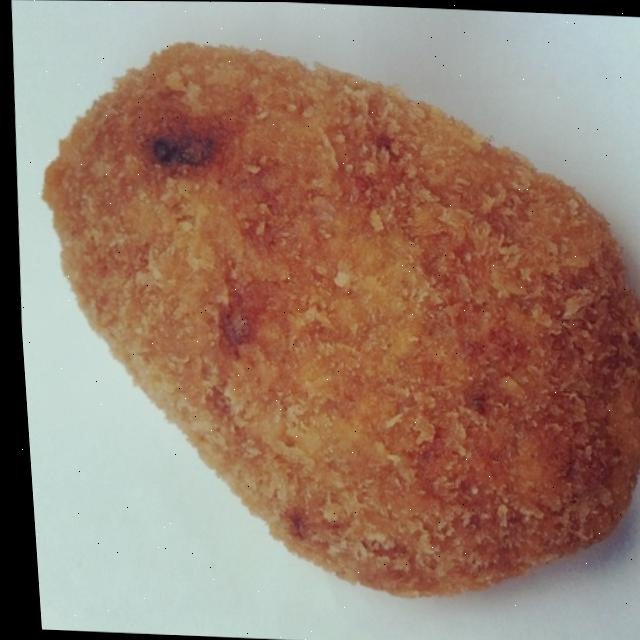炸货点心: (11, 18, 640, 627)
